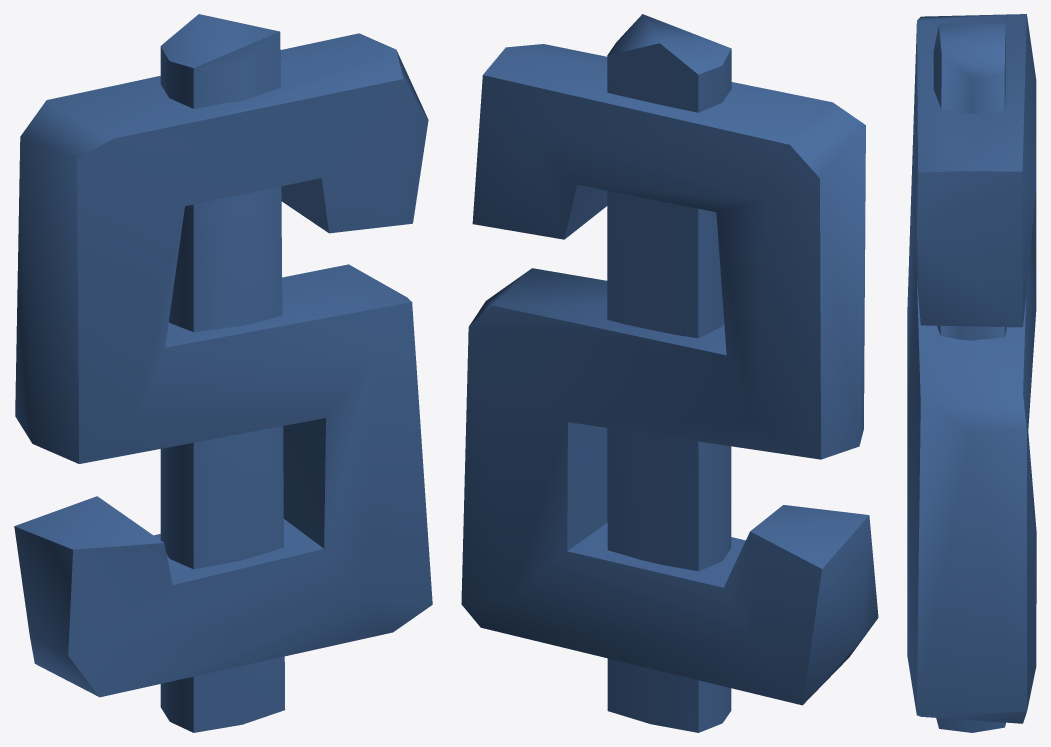
Rendered from 04 money.FBX.
The picture shows the model from 3 angles, left to right: view 1: azimuth 30°, elevation 25°; view 2: azimuth 150°, elevation 25°; view 3: azimuth 270°, elevation 25°; orthographic projection.
Parts seen in each view (by area): view 1: SM_Icon_Letter_Money_01; view 2: SM_Icon_Letter_Money_01; view 3: SM_Icon_Letter_Money_01.
Part boxes in pixels (left/top/right/bottom): SM_Icon_Letter_Money_01: left=14, top=14, right=432, bottom=732; SM_Icon_Letter_Money_01: left=461, top=14, right=878, bottom=732; SM_Icon_Letter_Money_01: left=907, top=14, right=1036, bottom=732.
Size of the model in its own units: 38.06 by 66.09 by 11.36.
